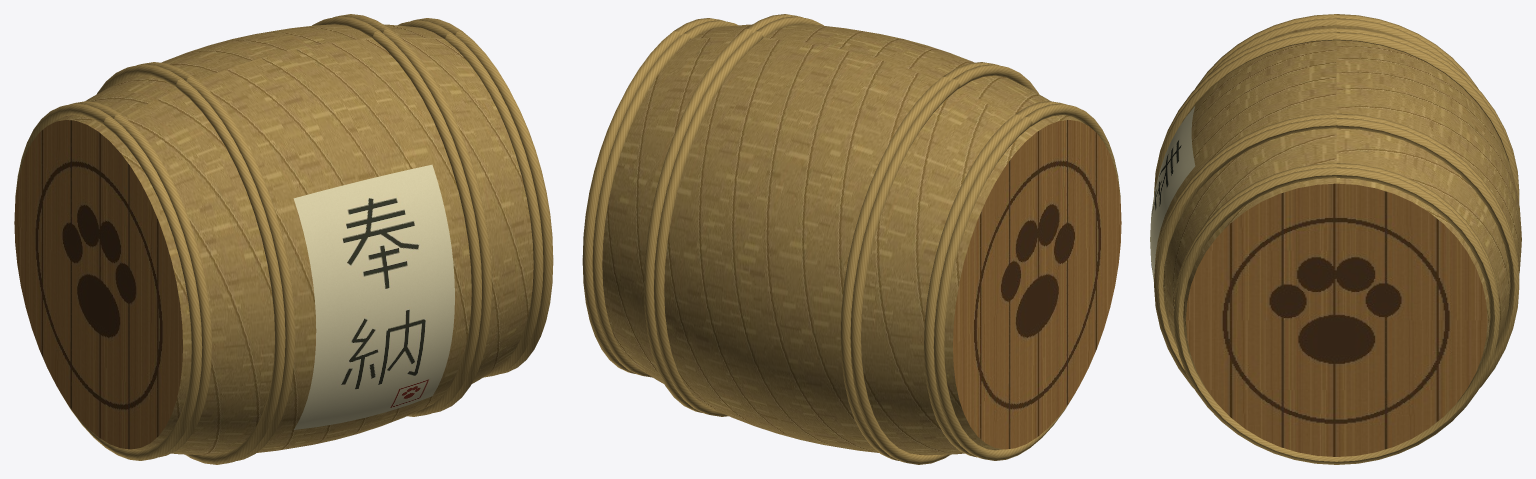
The model's file is nyanisyarud-bamboo-barrel.glb.
3 views of the same model, side by side, from view 1: azimuth 30°, elevation 25°; view 2: azimuth 150°, elevation 25°; view 3: azimuth 270°, elevation 25° (orthographic). The views are drawn at different scales.
Visible parts, largest first — view 1: Weathered straw wrapping, Wooden end caps with burned paw, Twisted straw rope, Offering label; view 2: Weathered straw wrapping, Wooden end caps with burned paw, Twisted straw rope; view 3: Wooden end caps with burned paw, Weathered straw wrapping, Twisted straw rope, Offering label.
Boxes of the visible parts, x1,y1,x2,y2 form: Weathered straw wrapping: (51,24,553,455); Wooden end caps with burned paw: (14,120,182,449); Twisted straw rope: (15,14,553,464); Offering label: (293,164,454,429); Weathered straw wrapping: (582,24,1084,455); Wooden end caps with burned paw: (953,120,1121,449); Twisted straw rope: (582,14,1120,464); Wooden end caps with burned paw: (1186,183,1487,456); Weathered straw wrapping: (1155,25,1521,401); Twisted straw rope: (1154,14,1519,464); Offering label: (1150,106,1195,281).
Bounding box in the file's own units: 1.28 × 1.24 × 1.25.
Materials: 4 (4 with a texture image).
